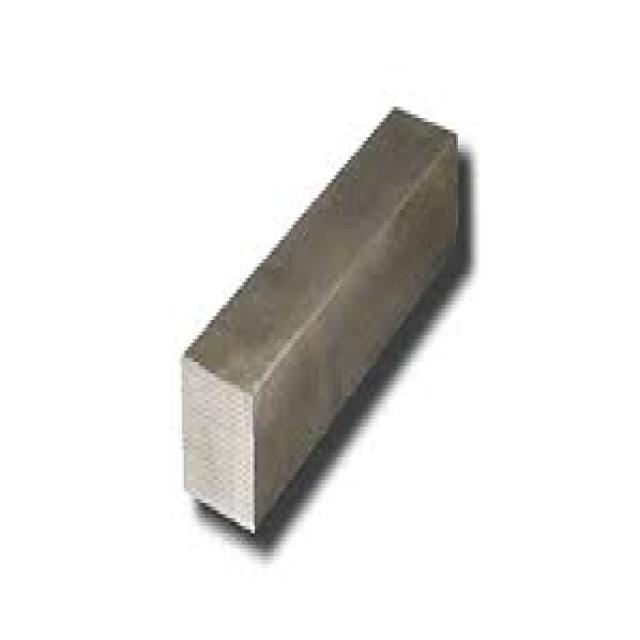Milling: (147, 68, 499, 574)
